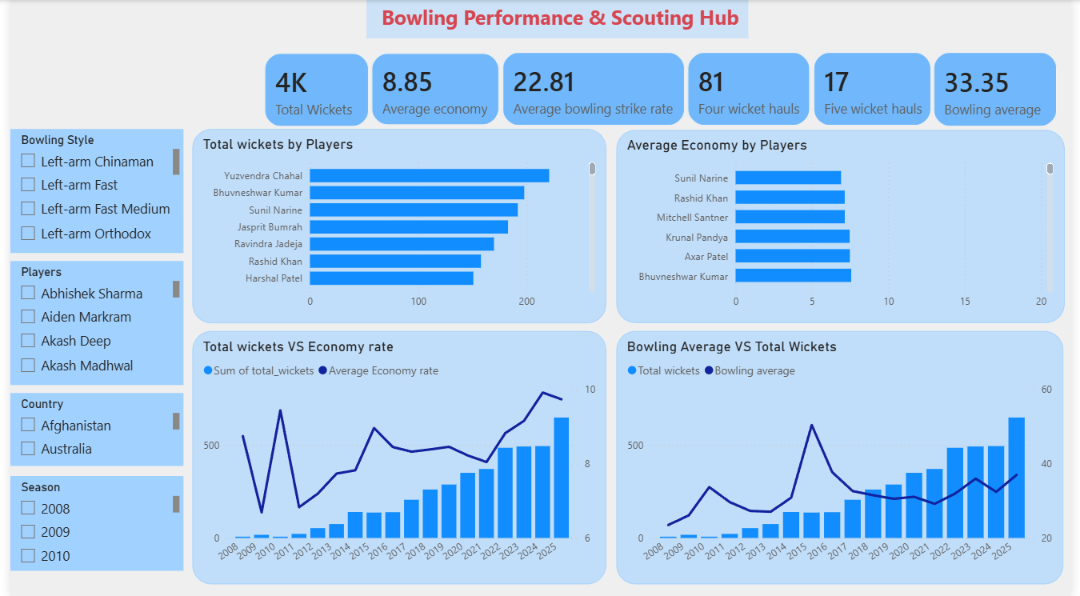

Layout of this report page (visuals, bound fields, positions):
{"tool":"powerbi","page":{"name":"  Bowling Performance & Scouting Hub","canvas":[1280,720],"ordinal":2},"visuals":[{"type":"textbox","box":[429.2,0,461,46.5],"z":0},{"type":"cardVisual","fields":{"Data":["Sum(BOWLER.total_wickets)"]},"box":[289.5,47.1,160.5,123.1],"z":1000},{"type":"cardVisual","fields":{"Data":["Avg(BOWLER.economy_rate)"]},"box":[418.6,47.1,188.2,121.9],"z":2000},{"type":"cardVisual","fields":{"Data":["Avg(BOWLER.bowling_strike_rate)"]},"box":[576.7,45.8,254.6,123.1],"z":3000},{"type":"cardVisual","fields":{"Data":["Sum(BOWLER.four_wicket_hauls)"]},"box":[799.9,45.8,182.2,123.1],"z":4000},{"type":"cardVisual","fields":{"Data":["Sum(BOWLER.five_wicket_hauls)"]},"box":[951.9,45.8,176.1,123.1],"z":5000},{"type":"cardVisual","fields":{"Data":["Avg(BOWLER.bowling_average)"]},"box":[1096.7,45.8,183.4,124.3],"z":6000},{"type":"slicer","fields":{"Values":["BOWLER.season"]},"box":[0,574.3,208.7,114.6],"z":8000},{"type":"slicer","fields":{"Values":["IPL26.Country"]},"box":[0,474.1,208.7,88.1],"z":9000},{"type":"slicer","fields":{"Values":["IPL26.Bowling_Style"]},"box":[0,155.6,208.7,149.6],"z":10000},{"type":"slicer","fields":{"Values":["BOWLER.player_name"]},"box":[0,314.9,208.7,149.6],"z":11000},{"type":"clusteredBarChart","title":"Total wickets by Players","fields":{"Y":["Sum(BOWLER.total_wickets)"],"Category":["BOWLER.player_name"]},"box":[219.6,155.6,499.5,234],"z":12000},{"type":"clusteredBarChart","title":"Average Economy by Players","fields":{"Category":["BOWLER.player_name"],"Y":["Avg(BOWLER.economy_rate)"]},"box":[731.1,156.8,540.5,232.8],"z":13000},{"type":"lineClusteredColumnComboChart","title":"Total wickets VS Economy rate","fields":{"Category":["BOWLER.season"],"Y2":["Avg(BOWLER.economy_rate)"],"Y":["Sum(BOWLER.total_wickets)"]},"box":[219.6,399.3,499.6,305.6],"z":14000},{"type":"lineClusteredColumnComboChart","title":"Bowling Average VS Total Wickets","fields":{"Category":["BOWLER.season"],"Y":["Sum(BOWLER.total_wickets)"],"Y2":["Avg(BOWLER.bowling_average)"]},"box":[731.1,399.3,538.9,305.6],"z":15000}]}

Visuals, with their boxes in screenshot pixels (x1, y1, x2, y2), scaled from the page's 1280x720 canvas onto the 1080x596 screenshot:
textbox: 362/0/751/38
cardVisual - Sum(BOWLER.total_wickets): 244/39/380/141
cardVisual - Avg(BOWLER.economy_rate): 353/39/512/140
cardVisual - Avg(BOWLER.bowling_strike_rate): 487/38/701/140
cardVisual - Sum(BOWLER.four_wicket_hauls): 675/38/829/140
cardVisual - Sum(BOWLER.five_wicket_hauls): 803/38/952/140
cardVisual - Avg(BOWLER.bowling_average): 925/38/1079/141
slicer - BOWLER.season: 0/475/176/570
slicer - IPL26.Country: 0/392/176/465
slicer - IPL26.Bowling_Style: 0/129/176/253
slicer - BOWLER.player_name: 0/261/176/385
"Total wickets by Players" clusteredBarChart: 185/129/607/323
"Average Economy by Players" clusteredBarChart: 617/130/1073/323
"Total wickets VS Economy rate" lineClusteredColumnComboChart: 185/331/607/584
"Bowling Average VS Total Wickets" lineClusteredColumnComboChart: 617/331/1072/584
